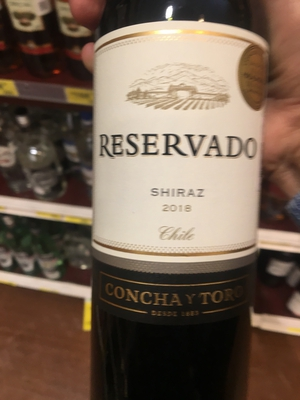reservado shiraz: (88, 6, 271, 400)
